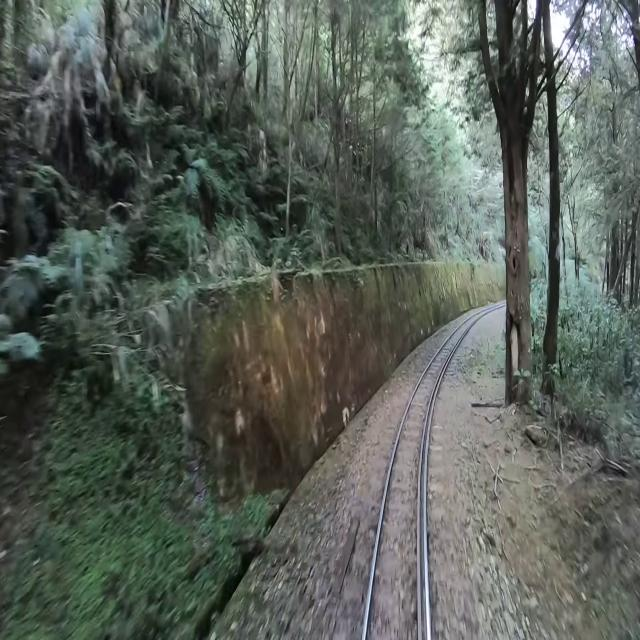rail-track: (366, 315, 477, 639)
